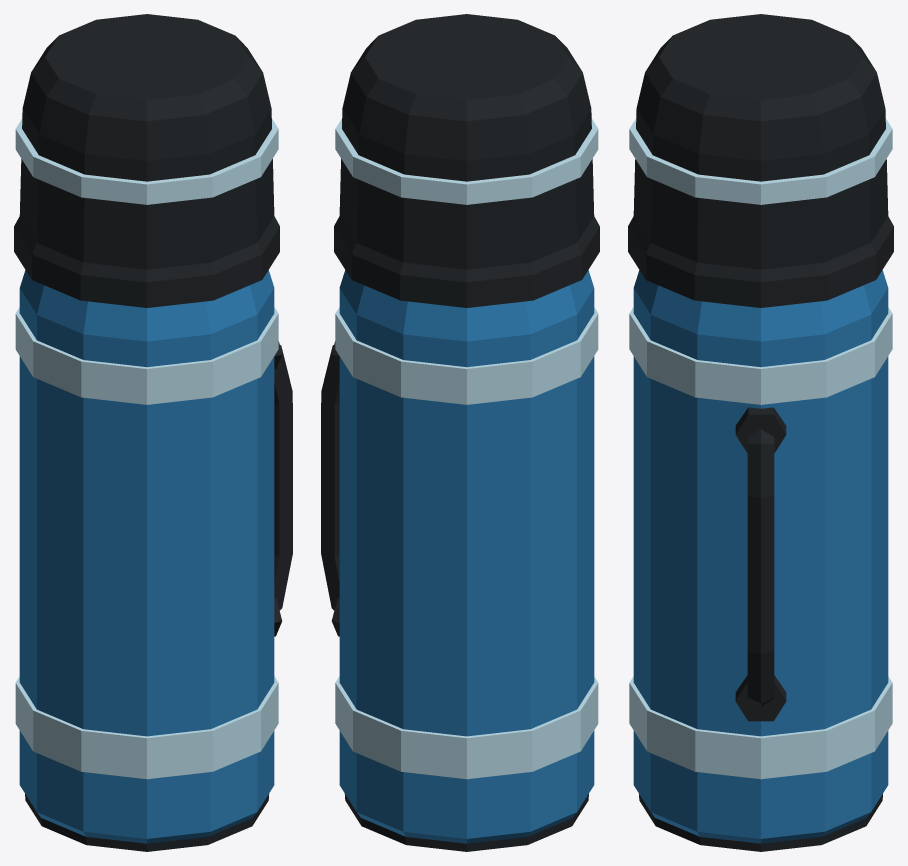
File: sm_prop_cargo_thermos.glb
3 views of the same model, side by side, from view 1: azimuth 30°, elevation 25°; view 2: azimuth 150°, elevation 25°; view 3: azimuth 270°, elevation 25° (orthographic).
Visible parts, largest first — view 1: Thermos; view 2: Thermos; view 3: Thermos.
Boxes of the visible parts, x1=… form: Thermos: x1=14, y1=14, x2=292, y2=851; Thermos: x1=321, y1=14, x2=599, y2=851; Thermos: x1=628, y1=14, x2=893, y2=851.
Bounding box in the file's own units: 0.1065 × 0.29 × 0.094.
